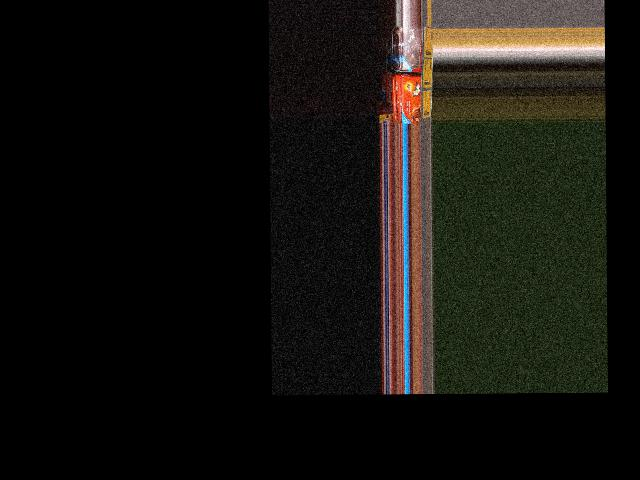chocolate: (399, 25, 426, 68)
